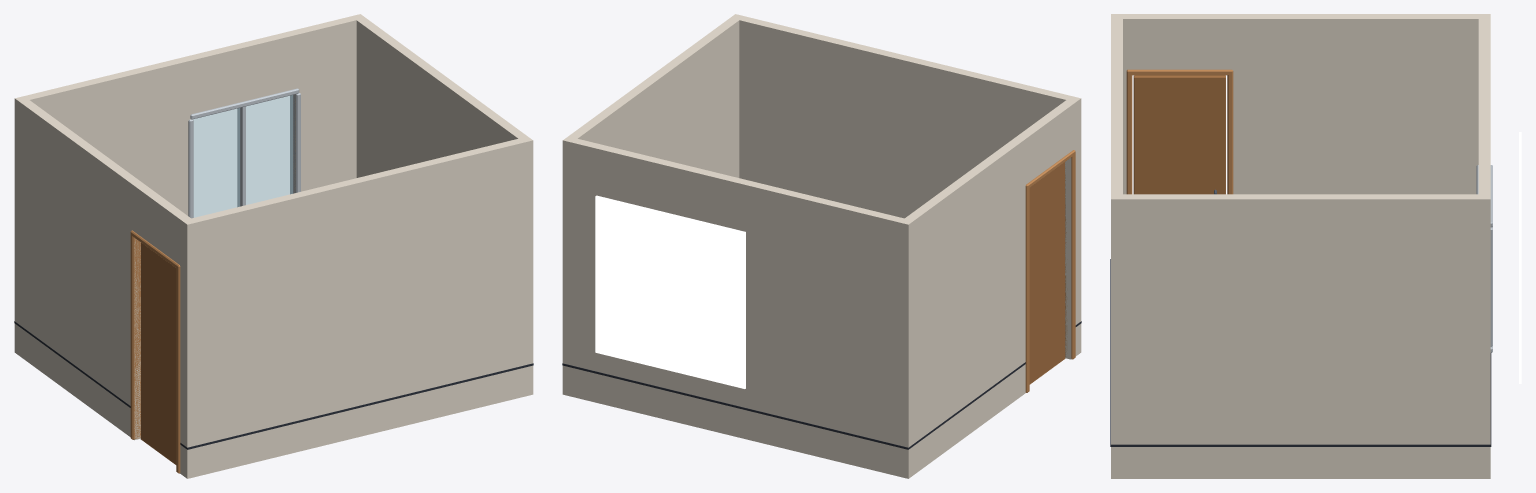
The model's file is room_bedroom.glb.
The picture shows the model from 3 angles, left to right: view 1: azimuth 30°, elevation 25°; view 2: azimuth 150°, elevation 25°; view 3: azimuth 270°, elevation 25°; orthographic projection. The views are drawn at different scales.
Parts seen in each view (by area): view 1: WALL_front, WALL_left, WALL_back, WALL_right, window_glass, wall_front_low_0, window_sky, door, door_frame_1, window_frame_side_1, door_frame_-1, wall_front_cap_0 (+3 smaller); view 2: WALL_back, WALL_front, WALL_left, window_sky, WALL_right, wall_back_low_0, door, door_frame_-1, wall_left_low_1, door_frame_1, wall_back_cap_0; view 3: WALL_right, WALL_left, door, WALL_back, WALL_front, wall_right_low_0, wall_right_cap_0, door_frame_1, door_frame_-1, window_sky, door_frame_top.
Part boxes in pixels (left/top/right/bottom): WALL_front: left=182, top=136, right=533, bottom=478; WALL_left: left=20, top=100, right=190, bottom=474; WALL_back: left=14, top=14, right=365, bottom=356; WALL_right: left=356, top=18, right=527, bottom=177; window_glass: left=193, top=95, right=292, bottom=217; wall_front_low_0: left=183, top=366, right=532, bottom=477; window_sky: left=193, top=96, right=289, bottom=217; door: left=141, top=243, right=176, bottom=464; door_frame_1: left=130, top=233, right=140, bottom=439; window_frame_side_1: left=290, top=93, right=300, bottom=193; door_frame_-1: left=176, top=266, right=180, bottom=473; wall_front_cap_0: left=182, top=363, right=533, bottom=449; WALL_back: left=562, top=136, right=913, bottom=478; WALL_front: left=730, top=14, right=1081, bottom=356; WALL_left: left=905, top=100, right=1075, bottom=474; window_sky: left=595, top=195, right=745, bottom=388; WALL_right: left=568, top=18, right=739, bottom=177; wall_back_low_0: left=563, top=366, right=912, bottom=477; door: left=1029, top=162, right=1064, bottom=383; door_frame_-1: left=1065, top=152, right=1075, bottom=359; wall_left_low_1: left=914, top=393, right=990, bottom=472; door_frame_1: left=1025, top=186, right=1029, bottom=392; wall_back_cap_0: left=562, top=363, right=914, bottom=449; WALL_right: left=1123, top=194, right=1478, bottom=478; WALL_left: left=1123, top=14, right=1478, bottom=194; door: left=1133, top=75, right=1225, bottom=194; WALL_back: left=1478, top=14, right=1490, bottom=478; WALL_front: left=1111, top=14, right=1122, bottom=478; wall_right_low_0: left=1124, top=447, right=1477, bottom=477; wall_right_cap_0: left=1122, top=444, right=1478, bottom=446; door_frame_1: left=1227, top=72, right=1233, bottom=194; door_frame_-1: left=1126, top=72, right=1132, bottom=194; window_sky: left=1519, top=132, right=1521, bottom=383; door_frame_top: left=1126, top=69, right=1233, bottom=75.
Bounding box in the file's own units: 3.72 × 2.64 × 3.46.
